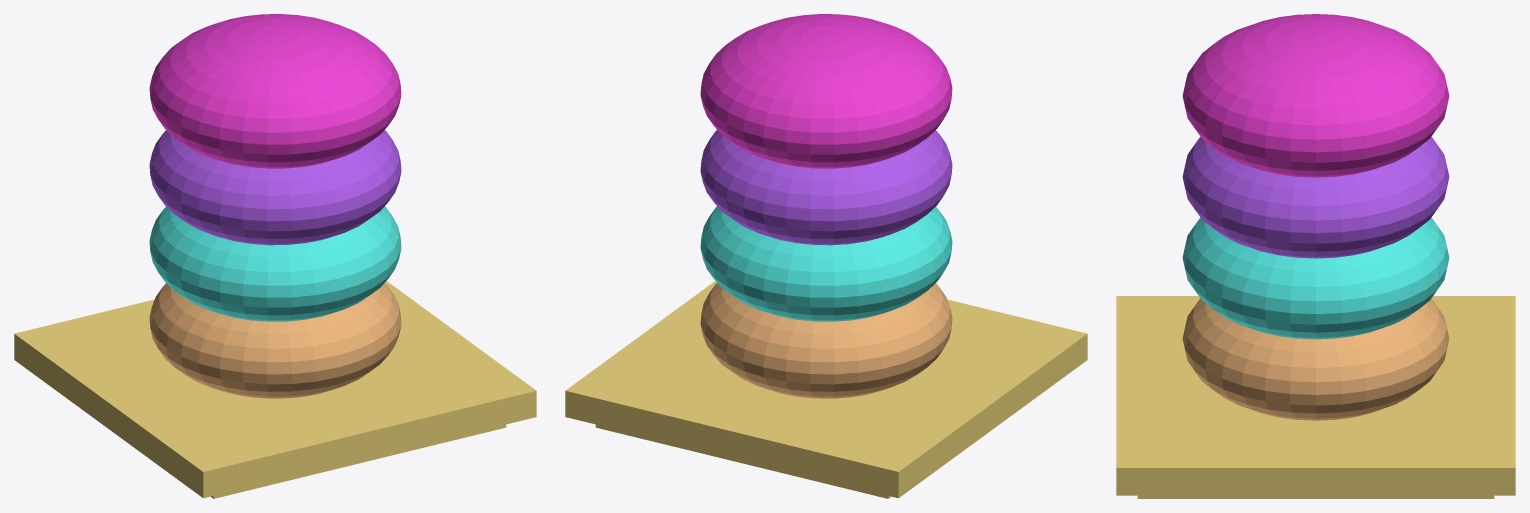
The model's file is repelcolumn_.fbx.
3 renders of one model, left to right at view 1: azimuth 30°, elevation 25°; view 2: azimuth 150°, elevation 25°; view 3: azimuth 270°, elevation 25°, orthographic. The views are drawn at different scales.
Parts seen in each view (by area): view 1: Sphere.003, Cube; view 2: Sphere.003, Cube; view 3: Sphere.003, Cube.
Boxes of the visible parts, x1,y1,x2,y2 form: Sphere.003: (149, 14, 506, 498); Cube: (14, 281, 536, 498); Sphere.003: (595, 14, 952, 498); Cube: (565, 281, 1087, 498); Sphere.003: (1137, 14, 1494, 498); Cube: (1116, 296, 1515, 495).
Bounding box in the file's own units: 228 × 239 × 224.
